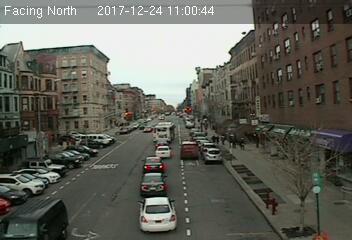bus: (152, 121, 175, 142)
car: (138, 197, 177, 233), (140, 172, 167, 195), (179, 140, 200, 160), (141, 156, 165, 173), (204, 148, 222, 161), (155, 145, 171, 158)
truck: (1, 195, 67, 240)
